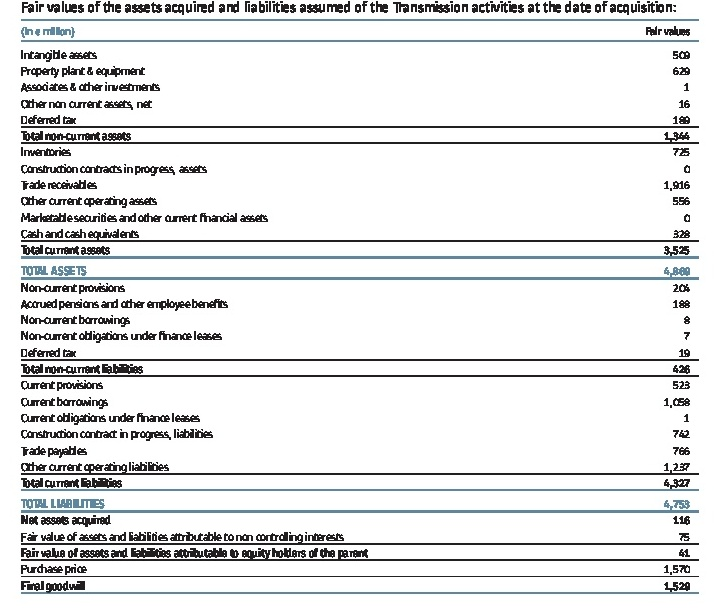table: (0, 0, 714, 612)
